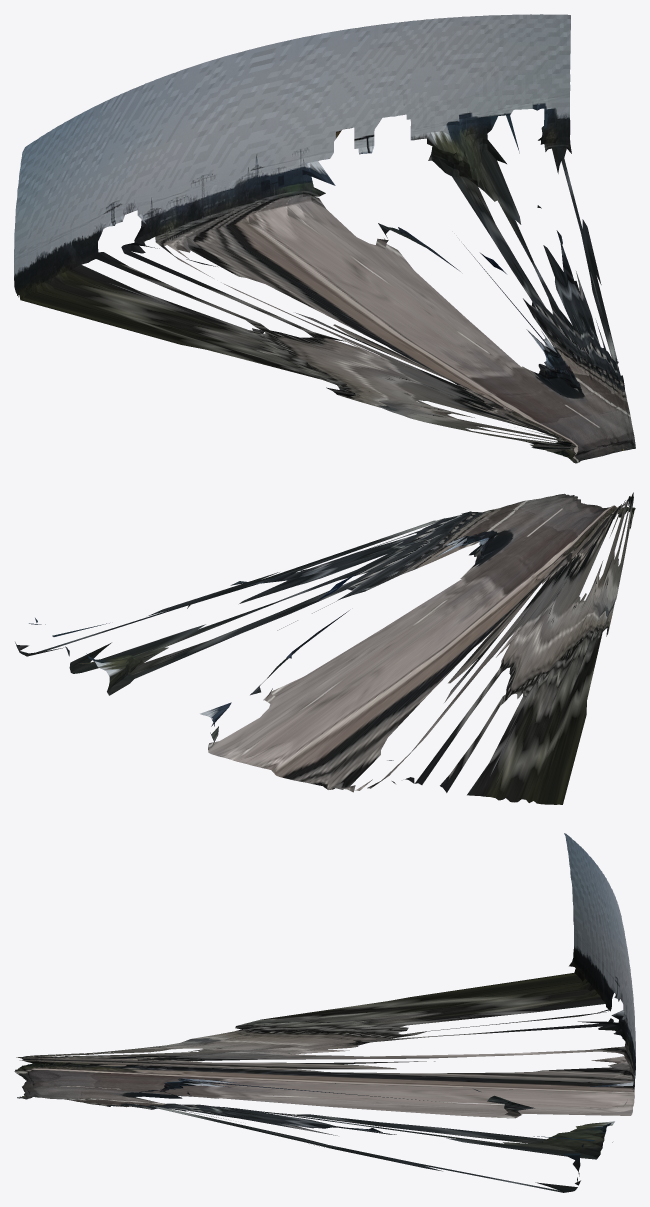
3 renders of one model, top to bottom at view 1: azimuth 30°, elevation 25°; view 2: azimuth 150°, elevation 25°; view 3: azimuth 270°, elevation 25°, orthographic. The views are drawn at different scales.
Parts seen in each view (by area): view 1: defaultobject; view 2: defaultobject; view 3: defaultobject.
Part boxes in pixels (box(x1,y1,x2,y2)): defaultobject: box(14, 14, 635, 463); defaultobject: box(15, 492, 635, 804); defaultobject: box(14, 833, 635, 1192).
Size of the model in its own units: 41.16 by 12.82 by 44.78.
Materials: 1 (1 with a texture image).
